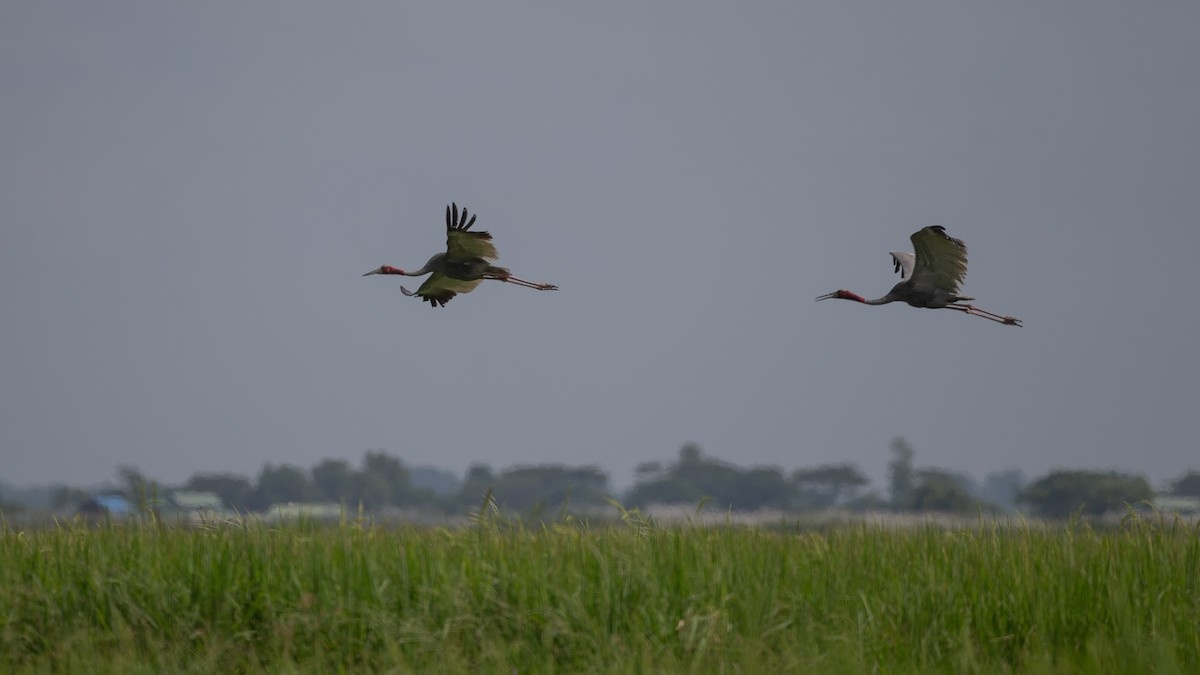crane: (808, 222, 1035, 338), (365, 197, 570, 311)
